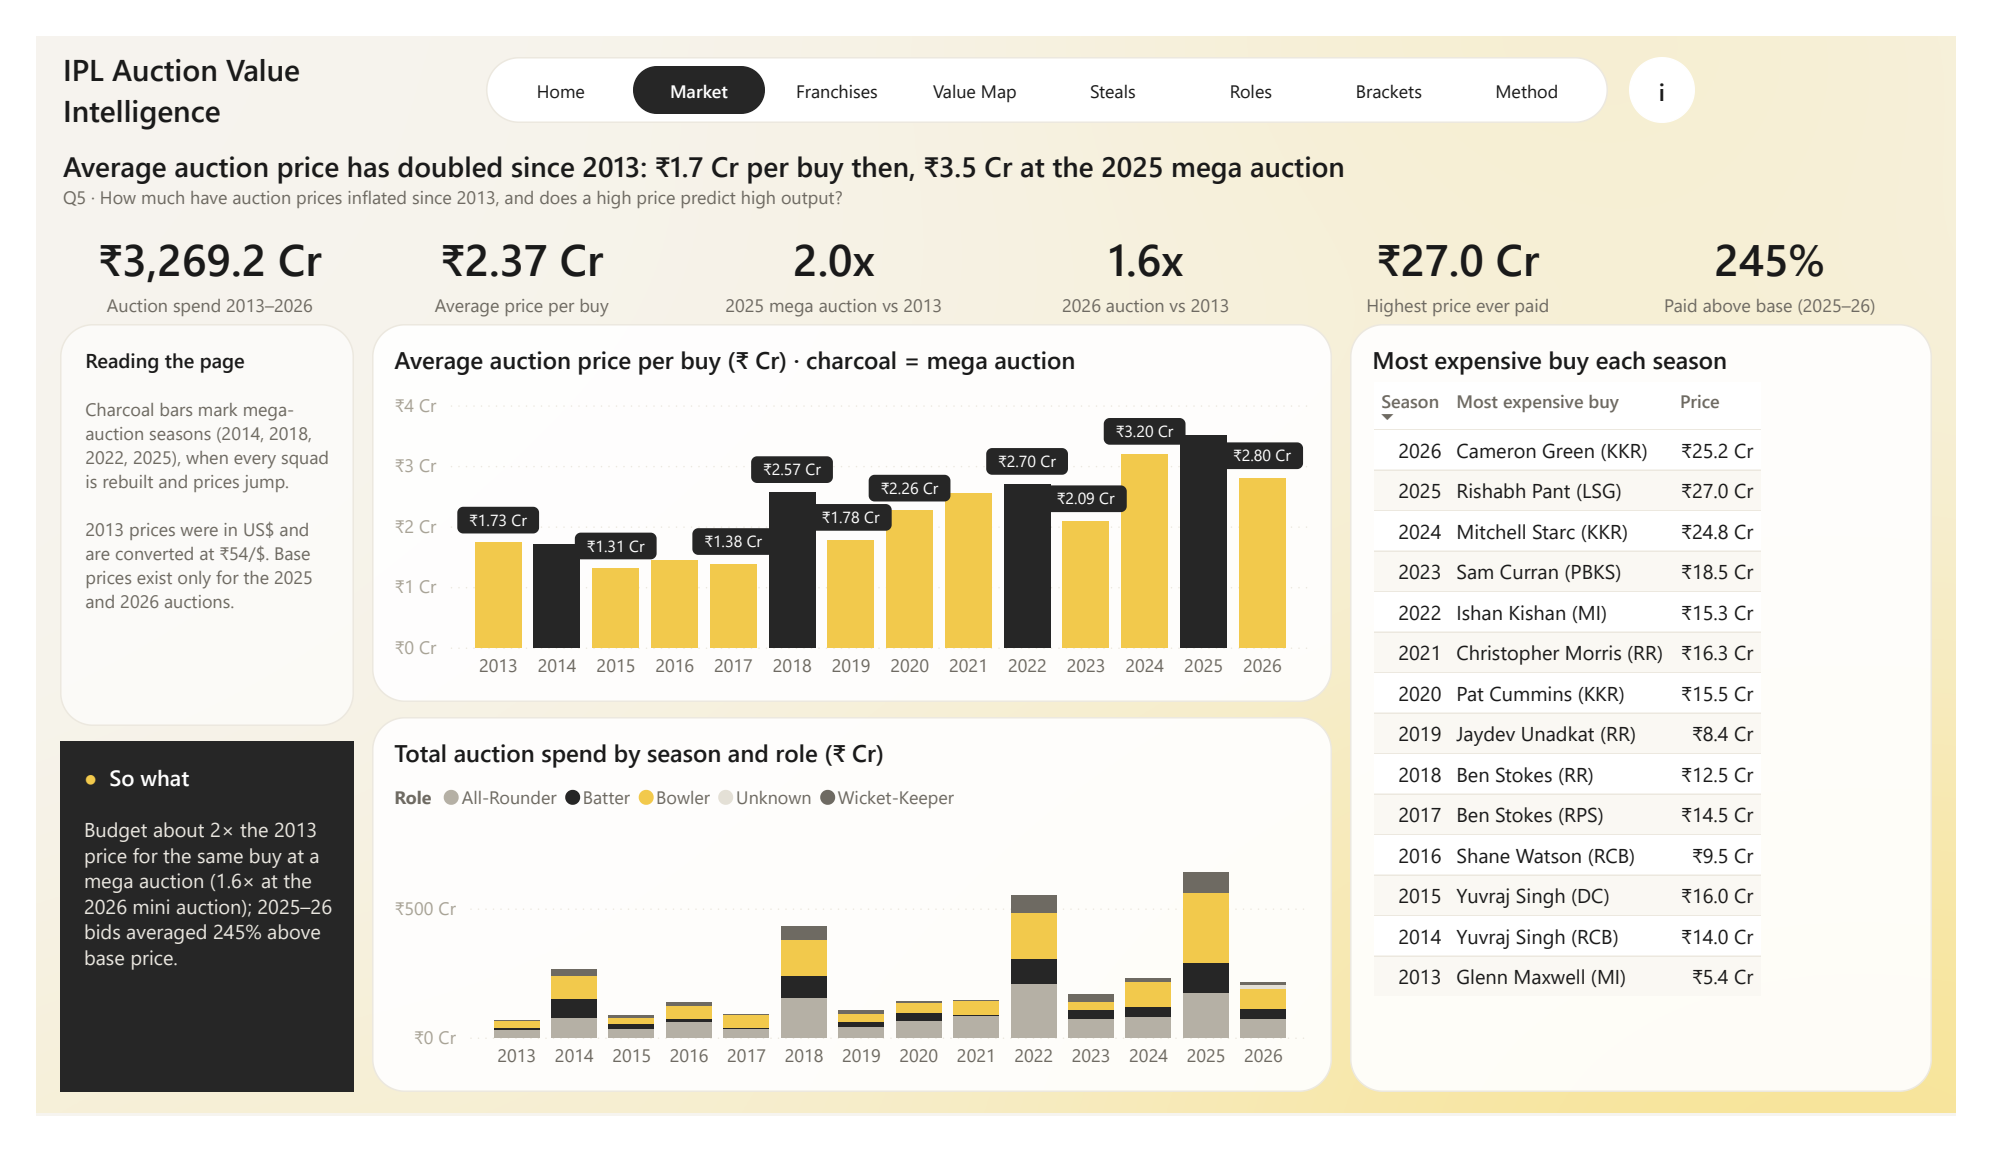

The page's visual inventory and layout, read from the dashboard file:
{"tool":"powerbi","page":{"name":"1 Auction Market","canvas":[1280,720],"ordinal":1},"visuals":[{"type":"textbox","box":[16,8,270,66],"z":1000},{"type":"textbox","box":[300,14,748,44],"z":2000},{"type":"actionButton","title":"Home","box":[306,20,88,32],"z":3000},{"type":"actionButton","title":"Market","box":[398,20,88,32],"z":4000},{"type":"actionButton","title":"Franchises","box":[490,20,88,32],"z":5000},{"type":"actionButton","title":"Value Map","box":[582,20,88,32],"z":6000},{"type":"actionButton","title":"Steals","box":[674,20,88,32],"z":7000},{"type":"actionButton","title":"Roles","box":[766,20,88,32],"z":8000},{"type":"actionButton","title":"Brackets","box":[858,20,88,32],"z":9000},{"type":"actionButton","title":"Method","box":[950,20,88,32],"z":10000},{"type":"actionButton","title":"i","box":[1062,14,44,44],"z":11000},{"type":"textbox","box":[16,74,1248,50],"z":12000},{"type":"card","fields":{"Values":["_Measures.Total Auction Spend Cr"]},"box":[16,126,200,62],"z":13000},{"type":"card","fields":{"Values":["_Measures.Avg Auction Price Cr"]},"box":[224,126,200,62],"z":14000},{"type":"card","fields":{"Values":["_Measures.Mega 2025 vs 2013"]},"box":[432,126,200,62],"z":15000},{"type":"card","fields":{"Values":["_Measures.Avg Price vs 2013"]},"box":[640,126,200,62],"z":16000},{"type":"card","fields":{"Values":["_Measures.Top Buy Price Cr"]},"box":[848,126,200,62],"z":17000},{"type":"card","fields":{"Values":["_Measures.Auction Premium %"]},"box":[1056,126,200,62],"z":18000},{"type":"textbox","box":[16,192,196,268],"z":19000},{"type":"textbox","box":[16,470,196,234],"z":20000},{"type":"clusteredColumnChart","title":"Average auction price per buy (₹ Cr) · charcoal = mega auction","fields":{"Category":["DimSeason.Season"],"Y":["_Measures.Avg Auction Price Cr"]},"box":[224,192,640,252],"z":21000},{"type":"columnChart","title":"Total auction spend by season and role (₹ Cr)","fields":{"Category":["DimSeason.Season"],"Series":["DimPlayer.Role"],"Y":["_Measures.Total Auction Spend Cr"]},"box":[224,454,640,250],"z":22000},{"type":"tableEx","title":"Most expensive buy each season","fields":{"Values":["DimSeason.Season","_Measures.Top Buy Player","_Measures.Top Buy Price Cr"]},"box":[876,192,388,512],"z":23000}]}

Visuals, with their boxes in screenshot pixels (x1, y1, x2, y2), scaled from the page's 1280x720 canvas onto the 1992x1152 screenshot:
textbox: x1=25, y1=13, x2=445, y2=118
textbox: x1=467, y1=22, x2=1631, y2=93
"Home" actionButton: x1=476, y1=32, x2=613, y2=83
"Market" actionButton: x1=619, y1=32, x2=756, y2=83
"Franchises" actionButton: x1=763, y1=32, x2=900, y2=83
"Value Map" actionButton: x1=906, y1=32, x2=1043, y2=83
"Steals" actionButton: x1=1049, y1=32, x2=1186, y2=83
"Roles" actionButton: x1=1192, y1=32, x2=1329, y2=83
"Brackets" actionButton: x1=1335, y1=32, x2=1472, y2=83
"Method" actionButton: x1=1478, y1=32, x2=1615, y2=83
"i" actionButton: x1=1653, y1=22, x2=1721, y2=93
textbox: x1=25, y1=118, x2=1967, y2=198
card - _Measures.Total Auction Spend Cr: x1=25, y1=202, x2=336, y2=301
card - _Measures.Avg Auction Price Cr: x1=349, y1=202, x2=660, y2=301
card - _Measures.Mega 2025 vs 2013: x1=672, y1=202, x2=984, y2=301
card - _Measures.Avg Price vs 2013: x1=996, y1=202, x2=1307, y2=301
card - _Measures.Top Buy Price Cr: x1=1320, y1=202, x2=1631, y2=301
card - _Measures.Auction Premium %: x1=1643, y1=202, x2=1955, y2=301
textbox: x1=25, y1=307, x2=330, y2=736
textbox: x1=25, y1=752, x2=330, y2=1126
"Average auction price per buy (₹ Cr) · charcoal = mega auction" clusteredColumnChart: x1=349, y1=307, x2=1345, y2=710
"Total auction spend by season and role (₹ Cr)" columnChart: x1=349, y1=726, x2=1345, y2=1126
"Most expensive buy each season" tableEx: x1=1363, y1=307, x2=1967, y2=1126
